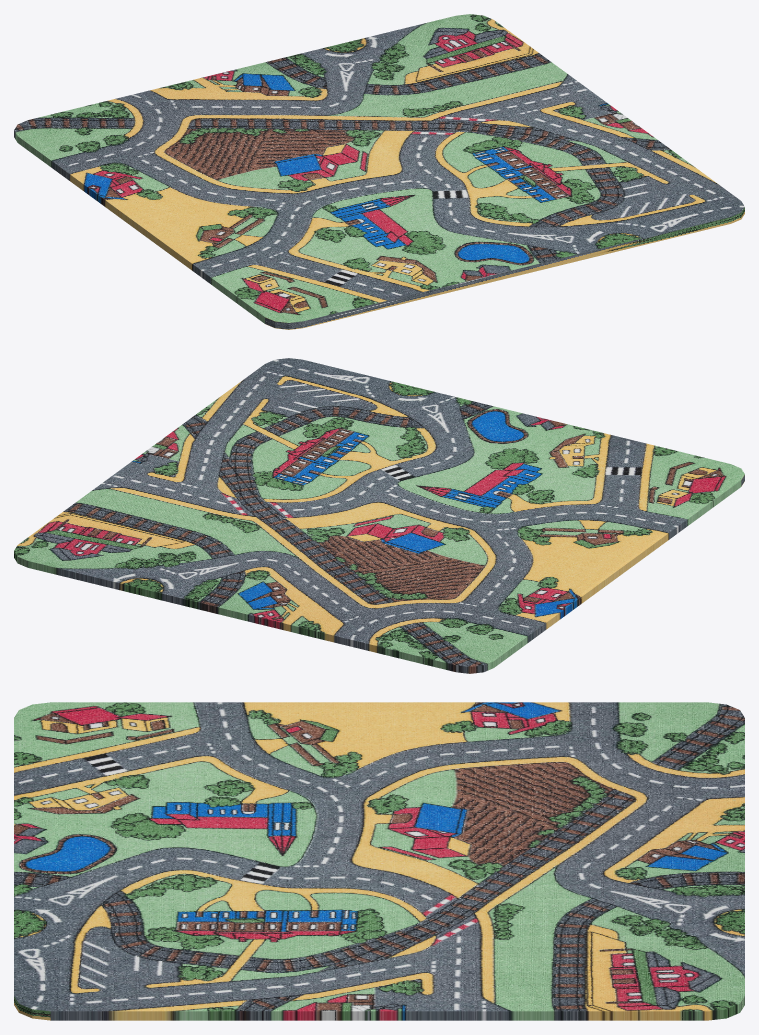
The model's file is SmallBoats_Carpet.fbx.
The picture shows the model from 3 angles, top to bottom: view 1: azimuth 30°, elevation 25°; view 2: azimuth 150°, elevation 25°; view 3: azimuth 270°, elevation 25°; orthographic projection. The views are drawn at different scales.
Parts seen in each view (by area): view 1: Carpet; view 2: Carpet; view 3: Carpet.
Boxes of the visible parts, left/top/right/bottom form: Carpet: left=14, top=14, right=744, bottom=329; Carpet: left=14, top=358, right=744, bottom=673; Carpet: left=14, top=702, right=744, bottom=1020.
Size of the model in its own units: 2304 by 35.44 by 2304.
1 material, 1 textured.
